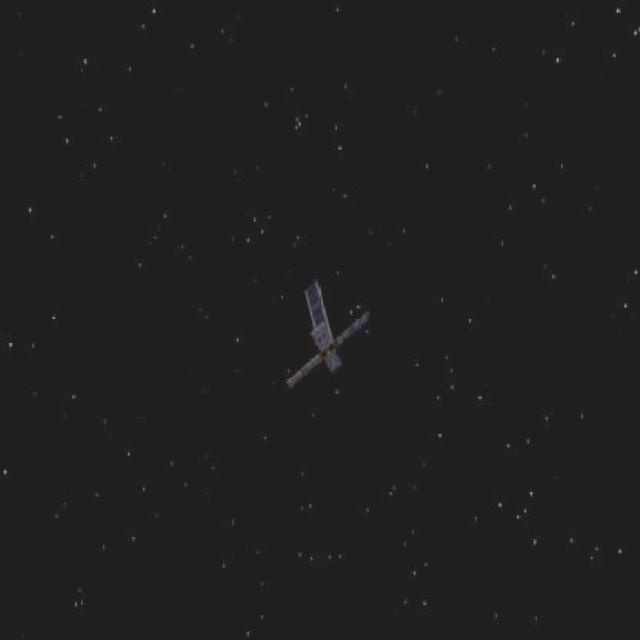satellite: (283, 261, 379, 407)
